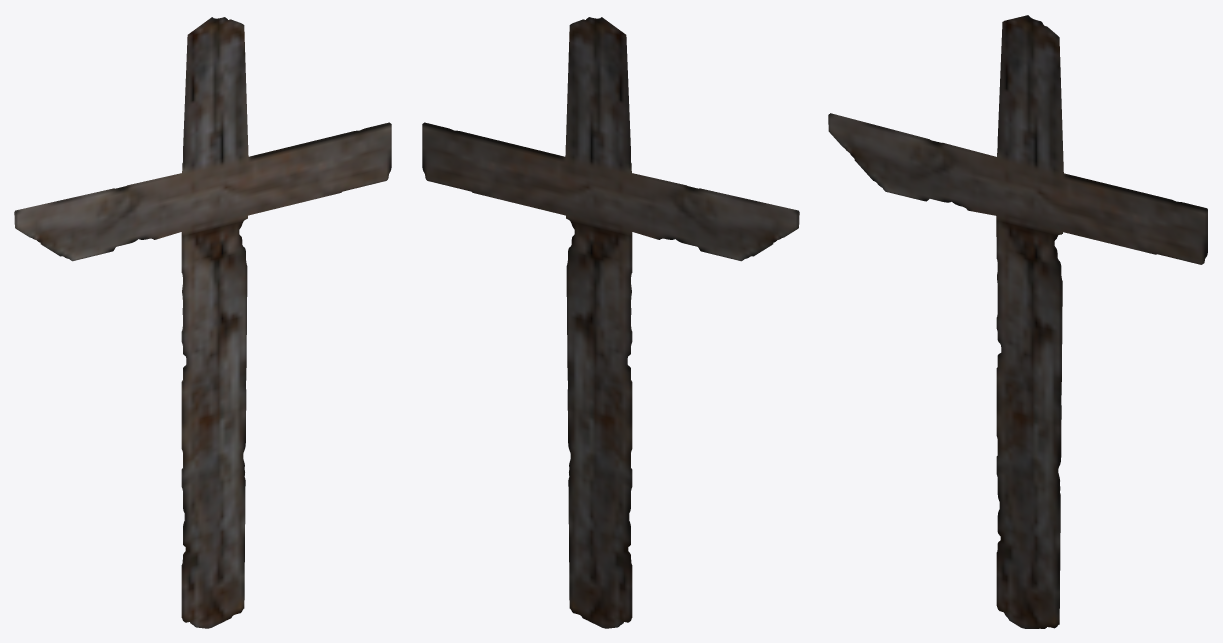
Rendered from swamp_cross_3.FBX.
The picture shows the model from 3 angles, left to right: view 1: azimuth 30°, elevation 25°; view 2: azimuth 150°, elevation 25°; view 3: azimuth 330°, elevation 25°; orthographic projection.
Parts seen in each view (by area): view 1: swamp_cross_3; view 2: swamp_cross_3; view 3: swamp_cross_3.
Part boxes in pixels (x1,y1,x2,y2): swamp_cross_3: [14, 17, 391, 628]; swamp_cross_3: [422, 17, 799, 628]; swamp_cross_3: [828, 15, 1207, 628].
Bounding box in the file's own units: 46.11 × 71.52 × 0.2583.
